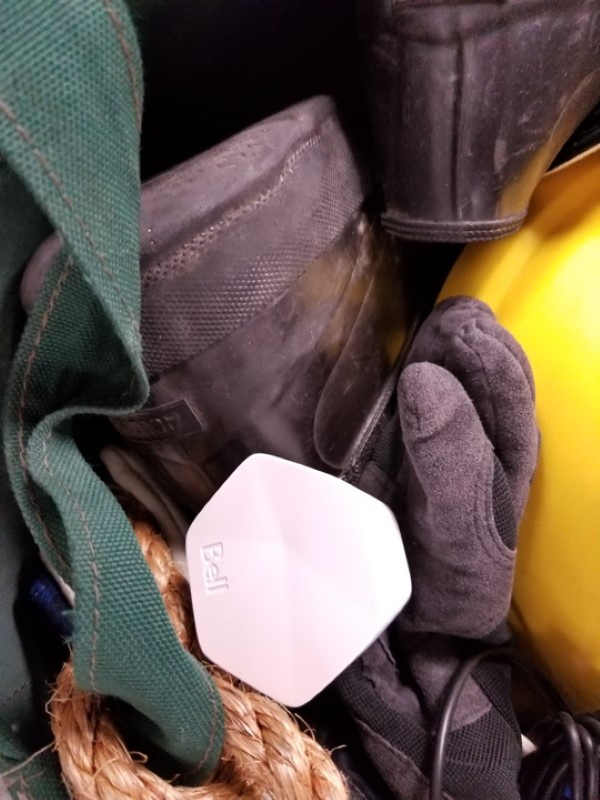pod: (178, 443, 420, 715)
